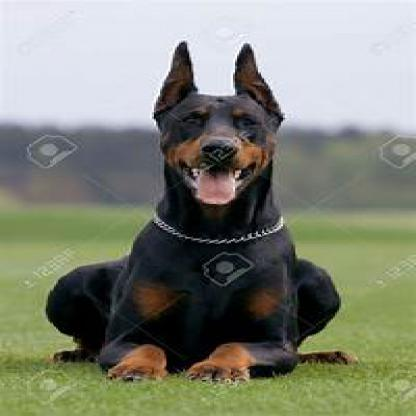dog: (43, 42, 350, 381)
